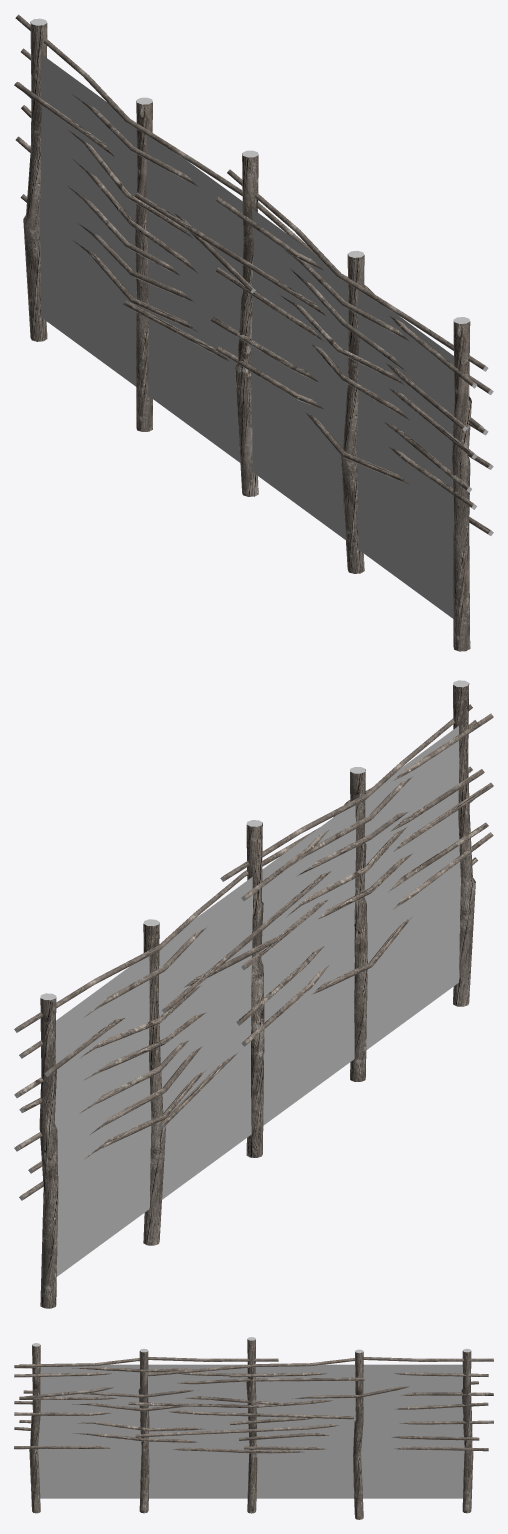
The model's file is Fence3.fbx.
The picture shows the model from 3 angles, top to bottom: view 1: azimuth 30°, elevation 25°; view 2: azimuth 150°, elevation 25°; view 3: azimuth 270°, elevation 25°; orthographic projection. The views are drawn at different scales.
Parts seen in each view (by area): view 1: obj_polySurface4; view 2: obj_polySurface4; view 3: obj_polySurface4.
Part boxes in pixels (bbox=[...]): obj_polySurface4: bbox=[14, 14, 493, 651]; obj_polySurface4: bbox=[14, 680, 493, 1308]; obj_polySurface4: bbox=[14, 1337, 493, 1519].
Size of the model in its own units: 0.2559 by 2.8 by 6.81.
